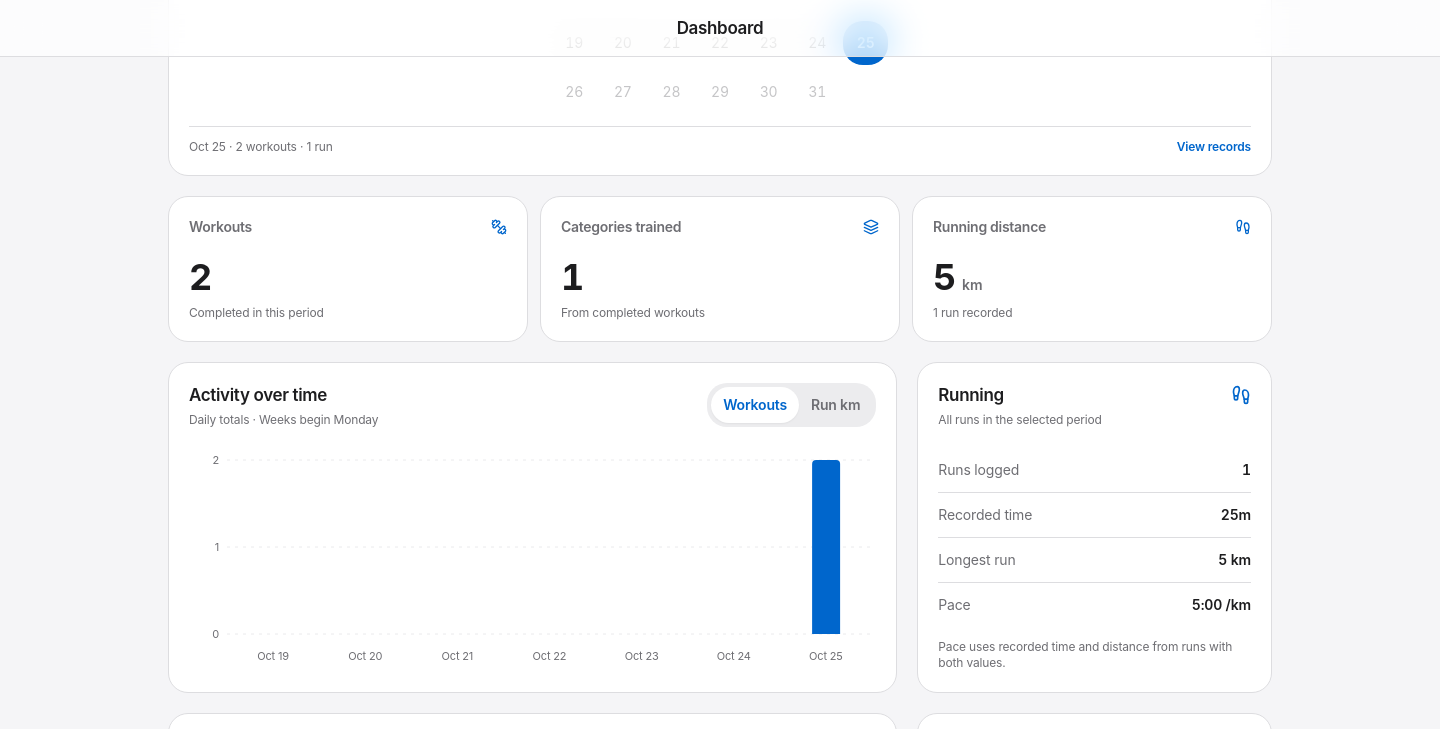
it: switches chart metrics and set breakdown while keeping recorded values accessible
The image size is (1440, 729).
(page scrolled)
Click the button "Run km" at {"x": 836, "y": 405}, box x1=799 y1=387 x2=872 y2=423
(page scrolled)
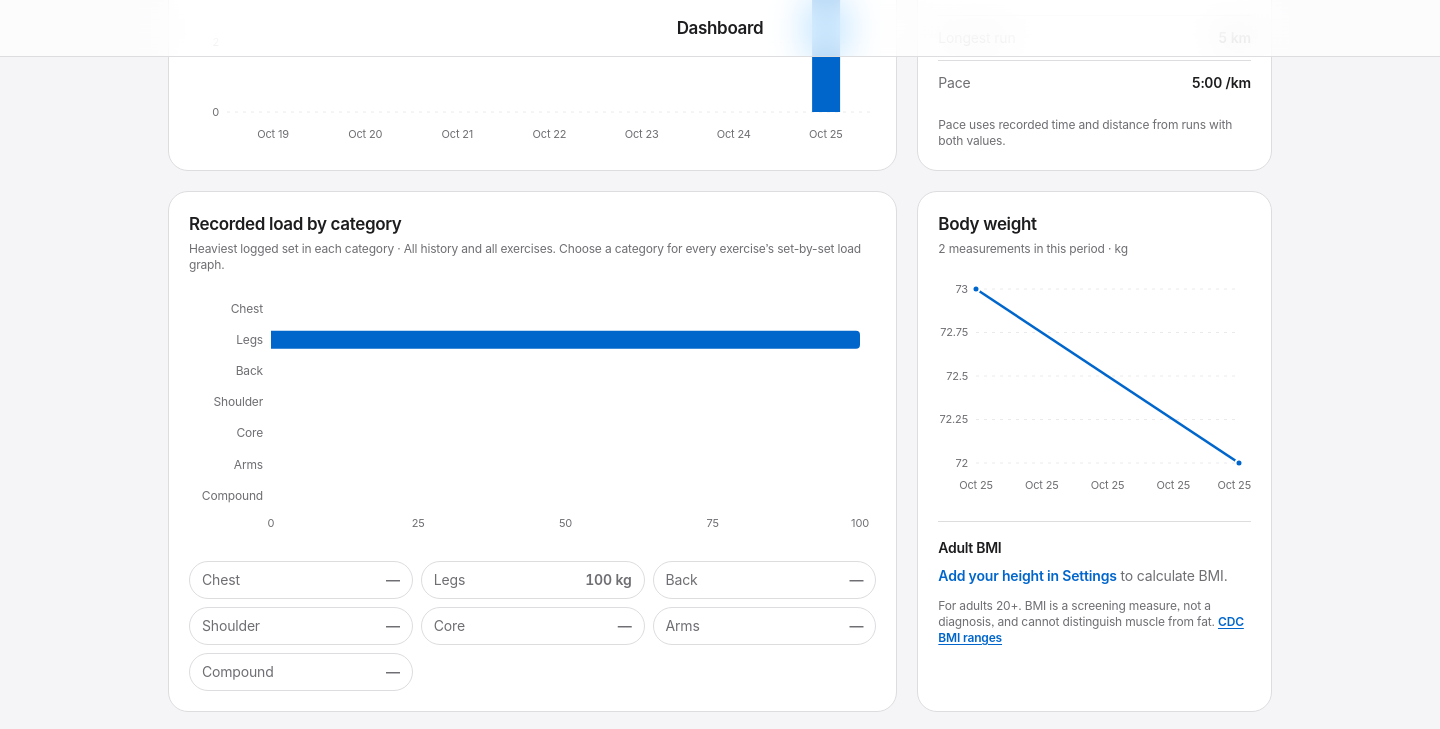
Click the button "Legs 100 kg" at {"x": 533, "y": 580}, box x1=421 y1=561 x2=645 y2=599
(page scrolled)
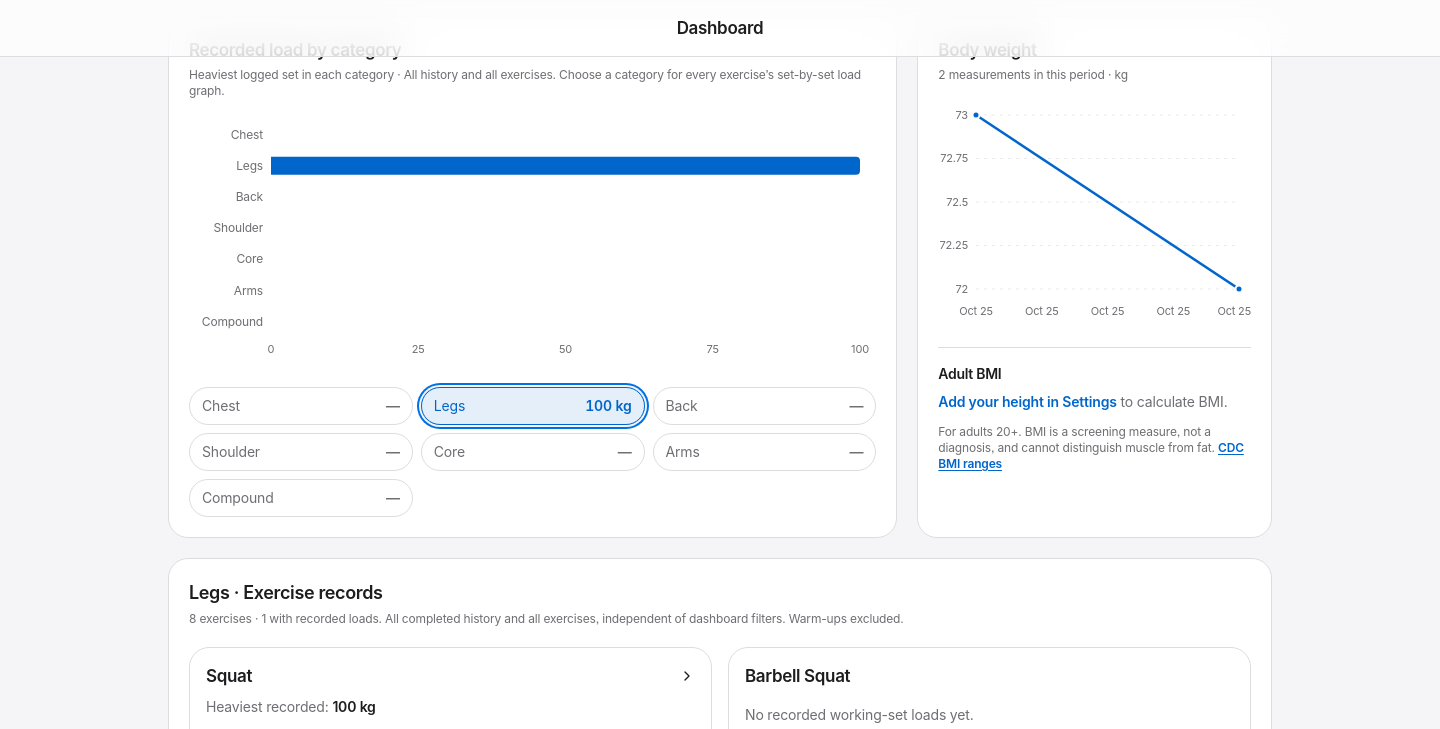
Click the button "Chest —" at {"x": 301, "y": 406}, box x1=189 y1=387 x2=413 y2=425
(page scrolled)
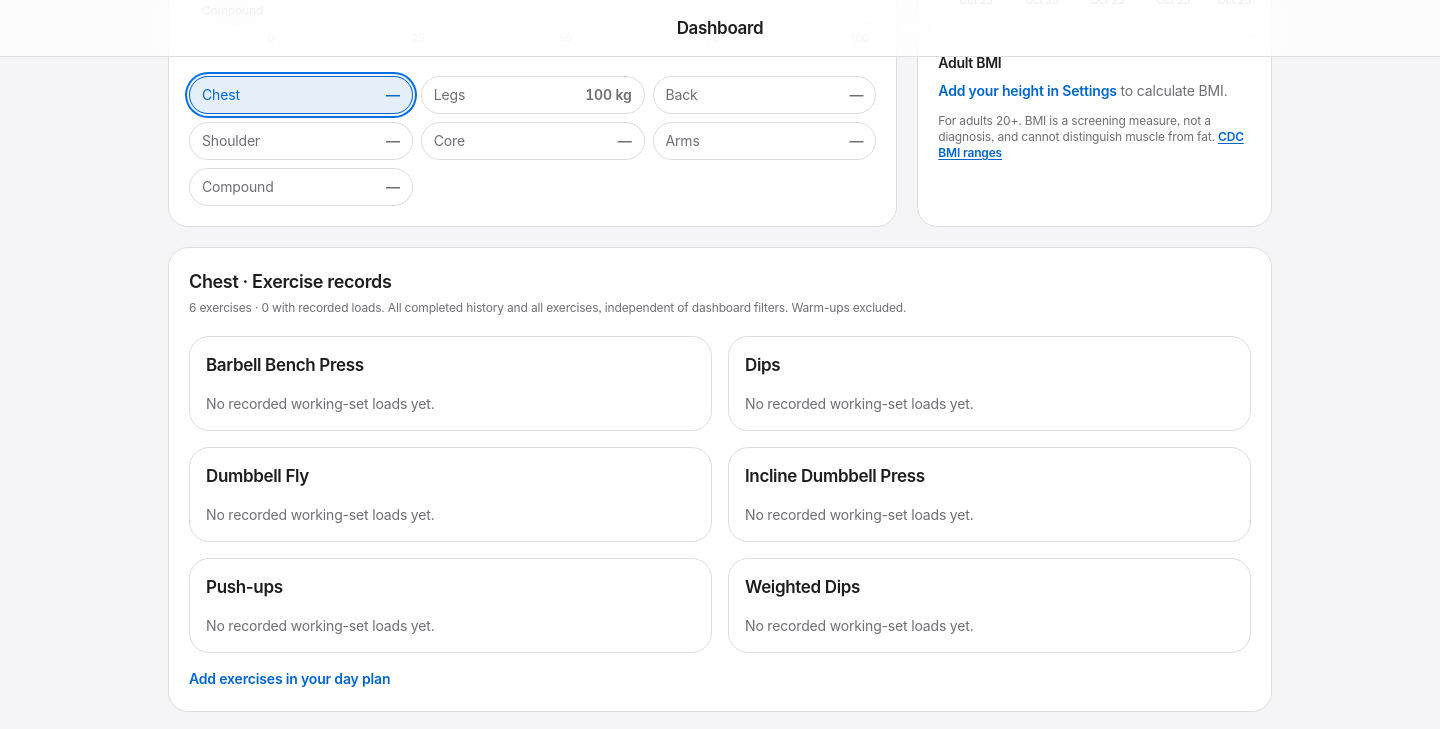
Result: the element named "Chest exercise records" shows "Push-ups" at x1=206 y1=577 x2=283 y2=597
Result: the element named "Chest exercise records" shows "Bench Press" at x1=206 y1=355 x2=364 y2=375
